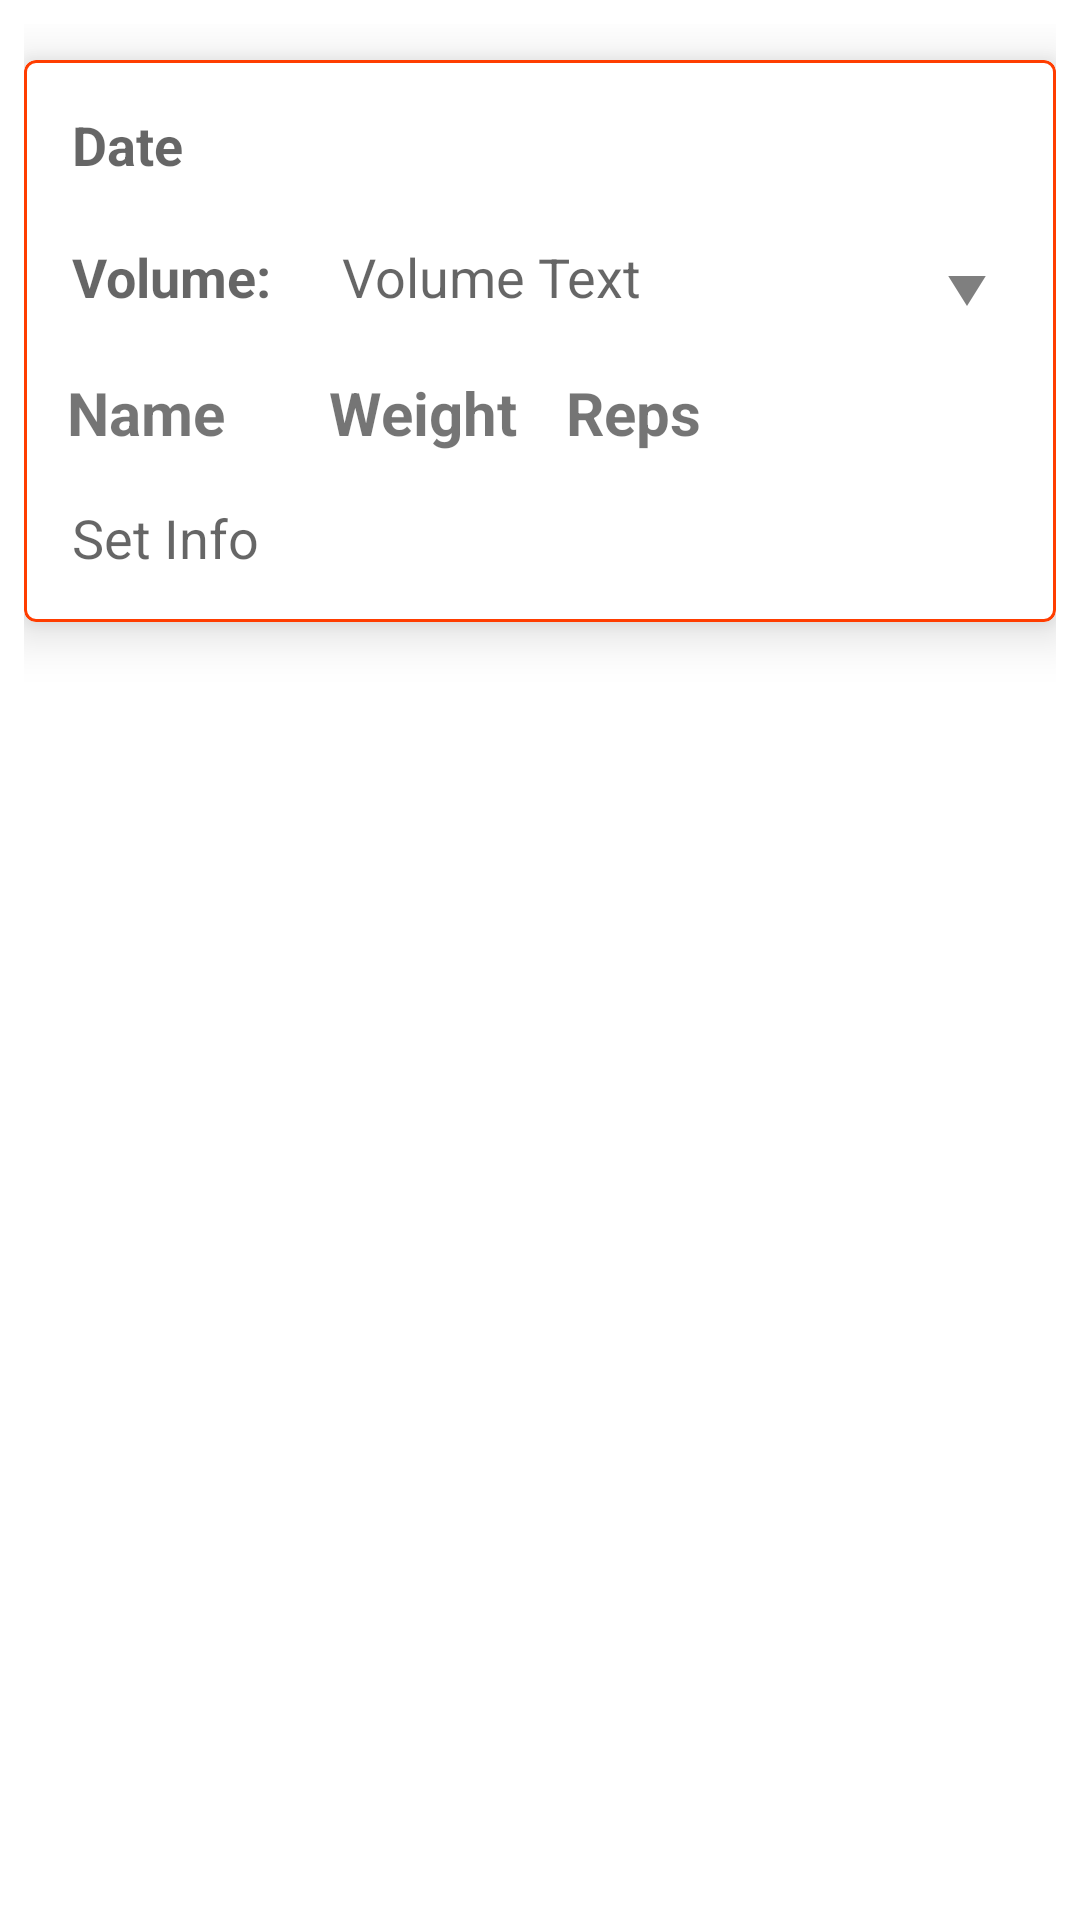

Named icons in this screenshot (1080 x 1920) and their bounding boxes, (x1, y1, x2, y2):
dropdownarrow: (948, 276, 986, 306)
